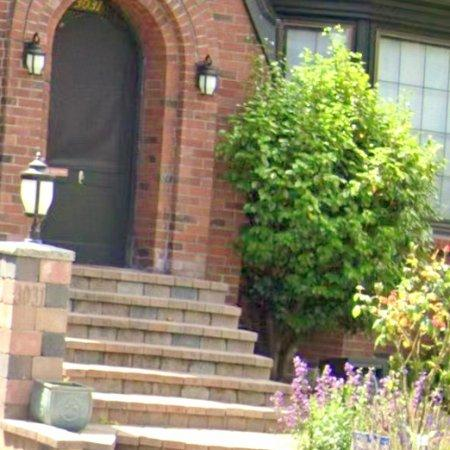stairs: (63, 266, 289, 450)
